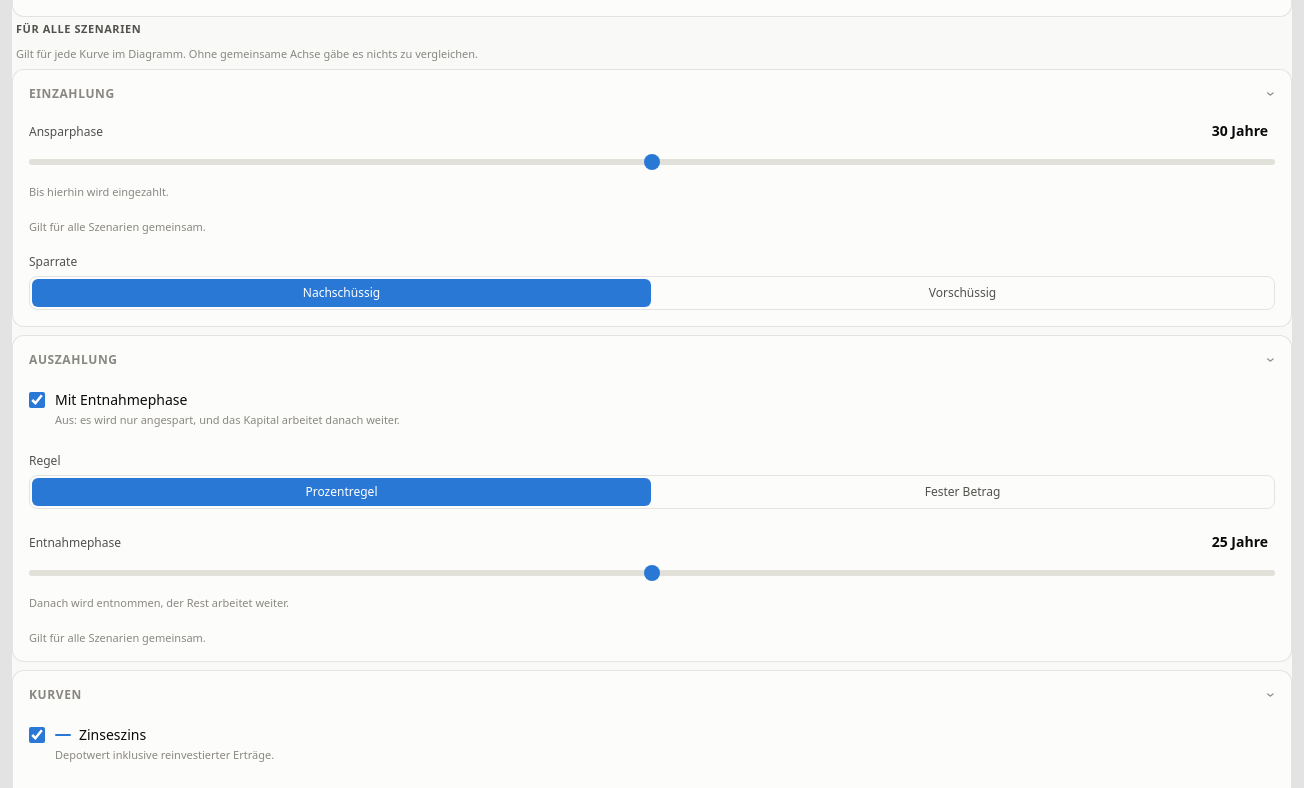
Test case: SettingsPanel: Entnahmephase › schaltet die Entnahme ab, ohne einen Regler bis zum Anschlag zu ziehen
This screenshot has width=1304, height=788.
(page scrolled)
Click the checkbox labelled "Mit Entnahmephase" at (37, 400), box [29, 392, 45, 408]
(page scrolled)
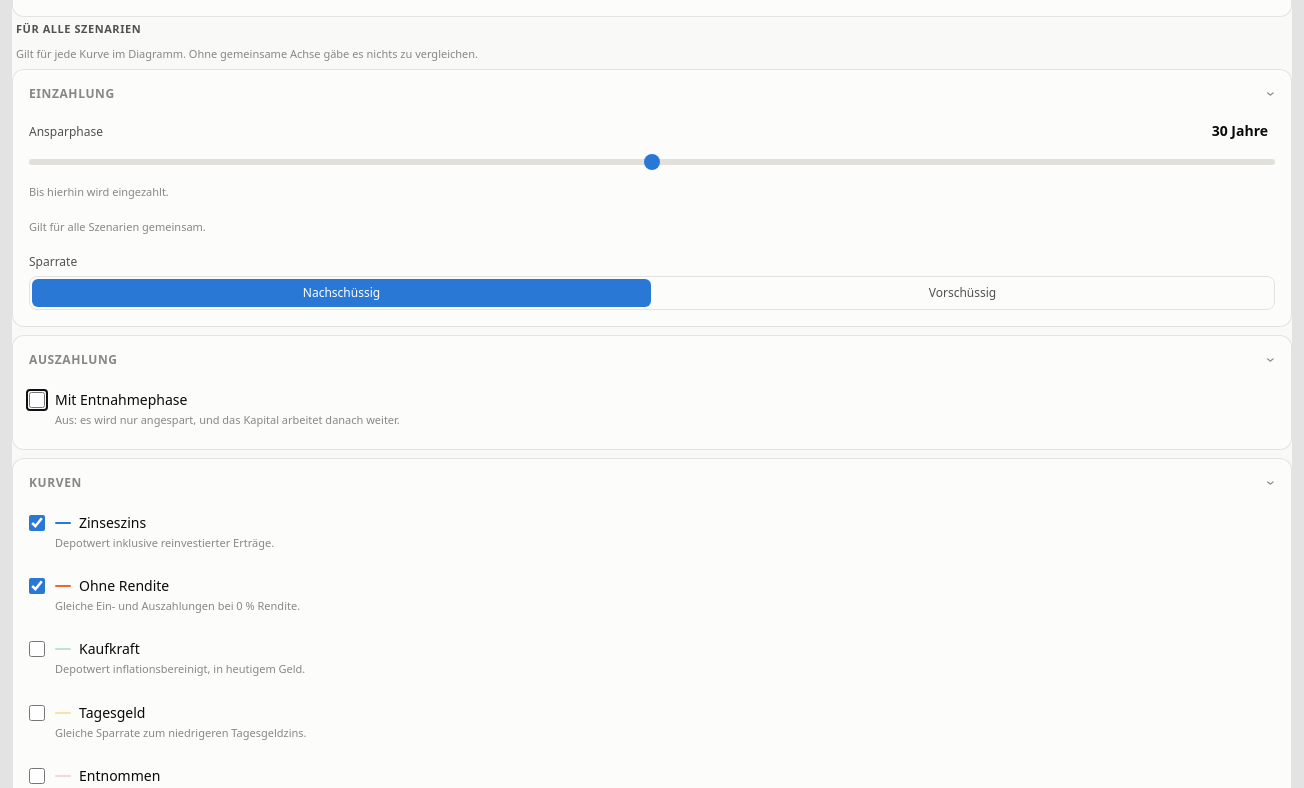
Result: the radio button labelled "Prozentregel" is gone
